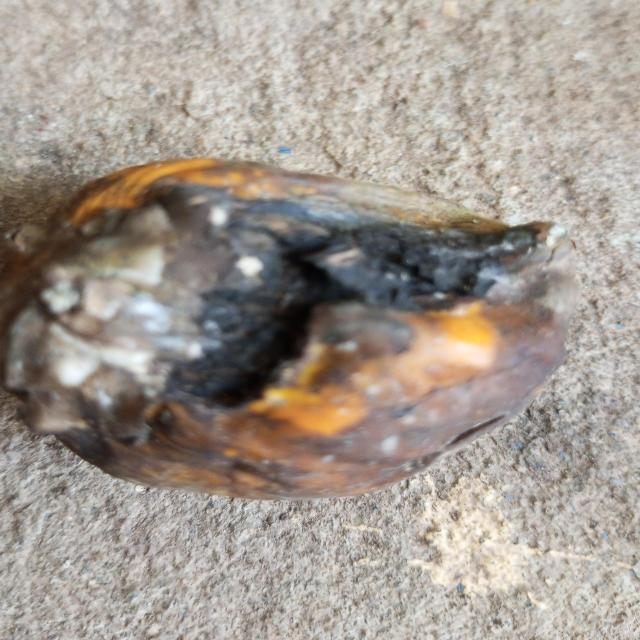damaged: (0, 158, 579, 503)
